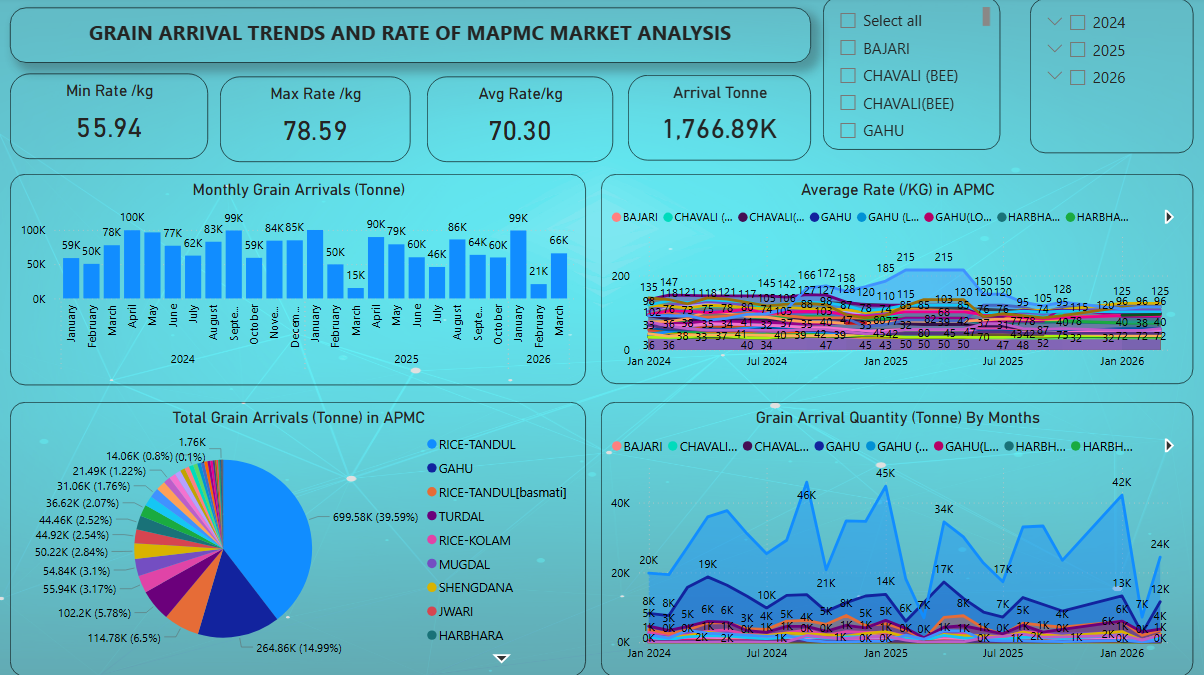

Layout of this report page (visuals, bound fields, positions):
{"tool":"powerbi","page":{"name":"Page 1","canvas":[1280,720],"ordinal":0},"visuals":[{"type":"card","title":"Min Rate /kg","fields":{"Values":["Sheet3.Avg min"]},"box":[12.7,81.1,210,90.7],"z":0},{"type":"card","title":"Max Rate /kg","fields":{"Values":["Sheet3.Avg max"]},"box":[235.4,84.3,202,90.7],"z":1000},{"type":"card","title":"Avg Rate/kg","fields":{"Values":["Sheet3.Avg Rate"]},"box":[454.9,84.3,197.2,90.7],"z":2000},{"type":"slicer","fields":{"Values":["Sheet3.Date.Variation.Date Hierarchy.Year","Sheet3.Date.Variation.Date Hierarchy.Month"]},"box":[1094.3,1.6,173.4,163.8],"z":3000},{"type":"slicer","fields":{"Values":["Sheet3.New Grain Name"]},"box":[874.8,0,187.7,162.2],"z":4000},{"type":"columnChart","title":"Monthly Grain Arrivals (Tonne)","fields":{"Category":["Sheet3.Date.Variation.Date Hierarchy.Year","Sheet3.Date.Variation.Date Hierarchy.Month","Sheet3.Date.Variation.Date Hierarchy.Day"],"Y":["Sum(Sheet3.Quntity in Tonne)"]},"box":[12.7,187.7,610.8,224.3],"z":5000},{"type":"areaChart","title":"Average Rate (/KG) in APMC","fields":{"Series":["Sheet3.New Grain Name"],"Y":["Sheet3.Avg Rate"],"Category":["Sheet3.Date.Variation.Date Hierarchy.Year","Sheet3.Date.Variation.Date Hierarchy.Quarter","Sheet3.Date.Variation.Date Hierarchy.Month","Sheet3.Date.Variation.Date Hierarchy.Day"]},"box":[639.4,187.7,628.3,222.7],"z":6000},{"type":"pieChart","title":"Total Grain Arrivals (Tonne) in APMC","fields":{"Category":["Sheet3.New Grain Name"],"Y":["Sum(Sheet3.Quntity in Tonne)"]},"box":[12.7,429.5,610.8,291.1],"z":7000},{"type":"areaChart","title":"Grain Arrival Quantity (Tonne)  By Months","fields":{"Series":["Sheet3.New Grain Name"],"Category":["Sheet3.Date.Variation.Date Hierarchy.Year","Sheet3.Date.Variation.Date Hierarchy.Quarter","Sheet3.Date.Variation.Date Hierarchy.Month","Sheet3.Date.Variation.Date Hierarchy.Day"],"Y":["Sum(Sheet3.Quntity in Tonne)"]},"box":[639.4,429.5,628.3,291.1],"z":8000},{"type":"card","title":"Arrival Tonne","fields":{"Values":["Sum(Sheet3.Quntity in Tonne)"]},"box":[668.1,82.7,194.1,90.7],"z":9000},{"type":"textbox","box":[12.7,11.1,849.4,58.9],"z":10000}]}

Visuals, with their boxes in screenshot pixels (x1, y1, x2, y2), scaled from the page's 1280x720 canvas onto the 1204x675 screenshot:
"Min Rate /kg" card: (left=12, top=76, right=209, bottom=161)
"Max Rate /kg" card: (left=221, top=79, right=411, bottom=164)
"Avg Rate/kg" card: (left=428, top=79, right=613, bottom=164)
slicer - Sheet3.Date.Variation.Date Hierarchy.Year x Sheet3.Date.Variation.Date Hierarchy.Month: (left=1029, top=2, right=1192, bottom=155)
slicer - Sheet3.New Grain Name: (left=823, top=0, right=999, bottom=152)
"Monthly Grain Arrivals (Tonne)" columnChart: (left=12, top=176, right=586, bottom=386)
"Average Rate (/KG) in APMC" areaChart: (left=601, top=176, right=1192, bottom=385)
"Total Grain Arrivals (Tonne) in APMC" pieChart: (left=12, top=403, right=586, bottom=674)
"Grain Arrival Quantity (Tonne)  By Months" areaChart: (left=601, top=403, right=1192, bottom=674)
"Arrival Tonne" card: (left=628, top=78, right=811, bottom=163)
textbox: (left=12, top=10, right=811, bottom=66)
